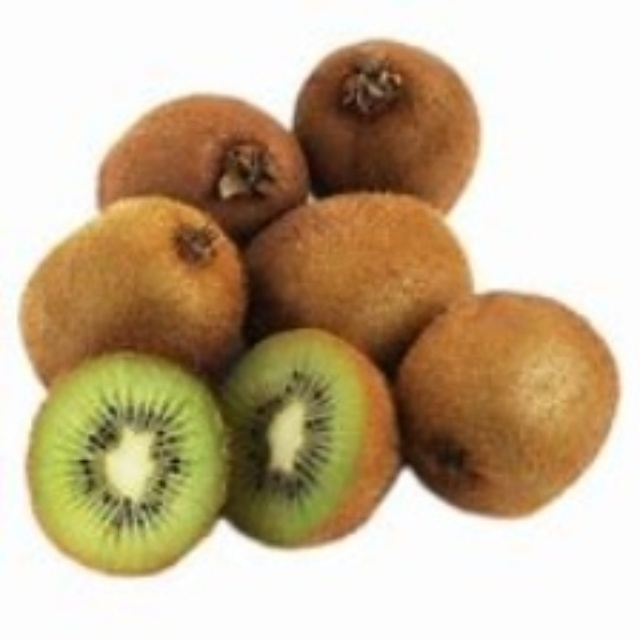kiwi: (388, 302, 619, 528), (20, 206, 253, 396), (31, 359, 222, 575), (238, 189, 480, 354), (284, 34, 507, 213), (209, 331, 398, 542), (90, 90, 313, 240)
